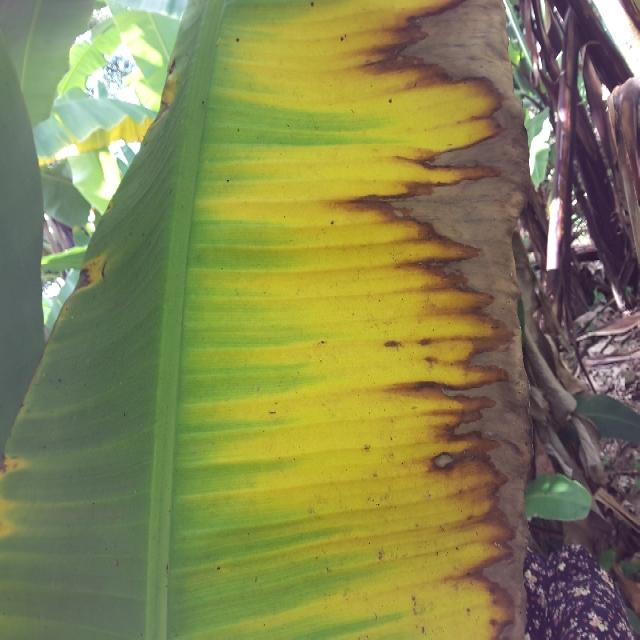Cordana: (195, 0, 498, 640), (61, 111, 150, 185), (0, 427, 38, 562), (63, 247, 128, 306), (146, 58, 178, 131)
